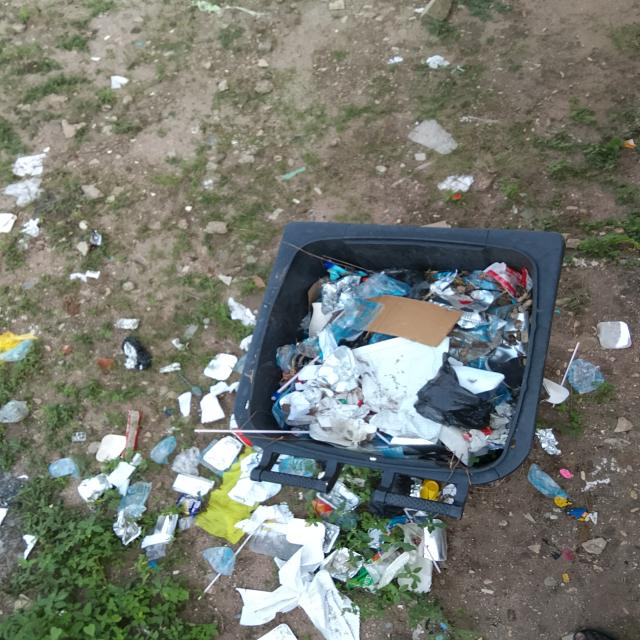full: (235, 213, 570, 474)
